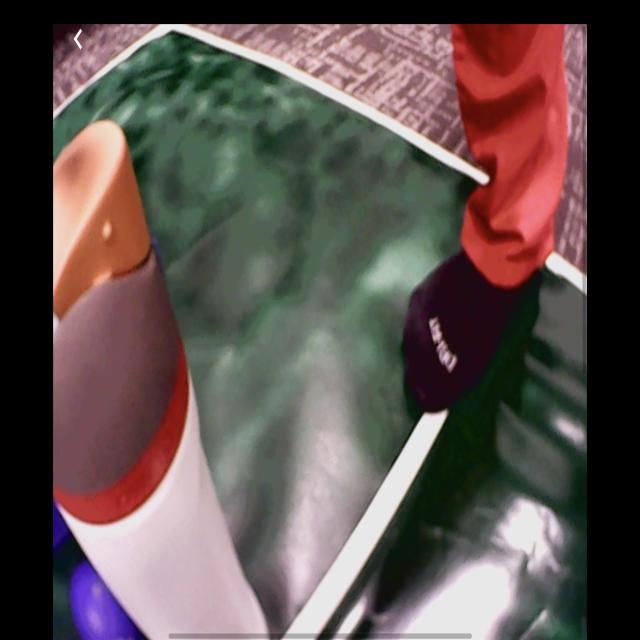ball: (70, 557, 137, 640)
